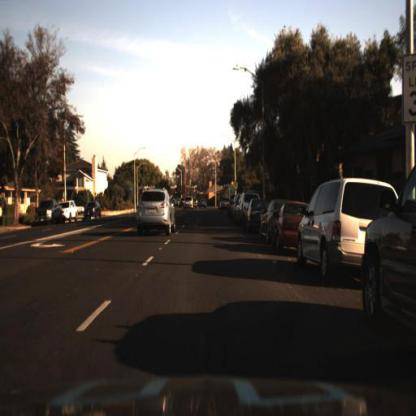car: (296, 177, 402, 283), (359, 161, 416, 355), (271, 195, 315, 254), (136, 186, 179, 242), (32, 197, 63, 227), (34, 200, 63, 225), (61, 200, 78, 225), (84, 199, 102, 222), (199, 194, 212, 213), (184, 196, 196, 211)
